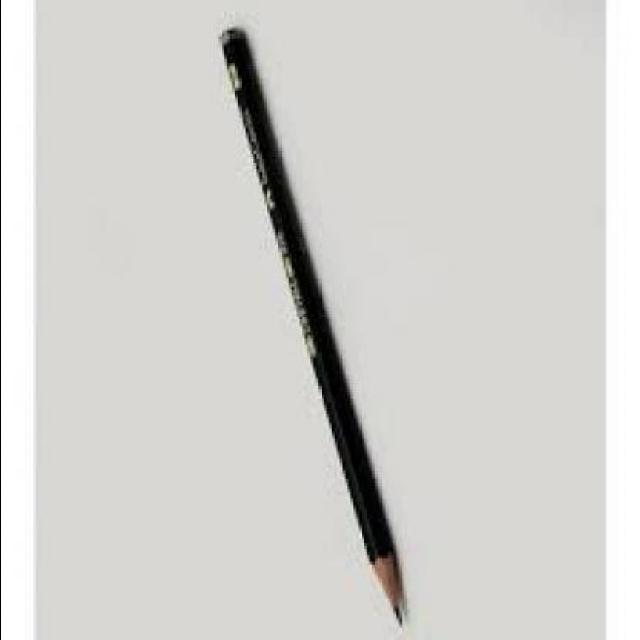pencil: (358, 528, 408, 634)
